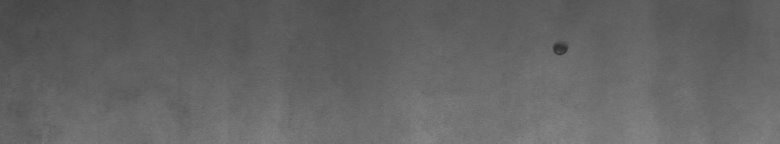fi: (548, 36, 573, 64)
